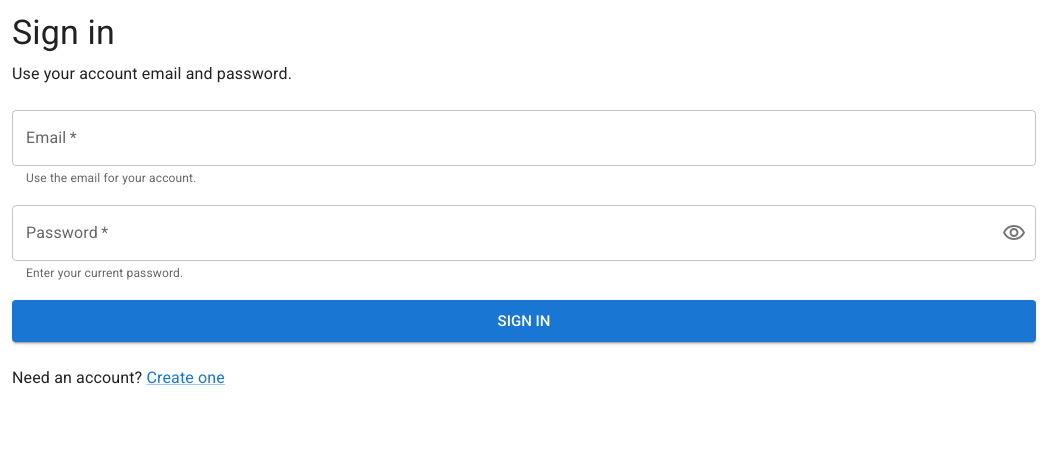
Test: AuthForm › keeps timeout and upstream failures distinct
The width and height of the screenshot is (1048, 474).
Type "person@example.com" into the field labelled "Email *". click: (524, 138)
box: left=12, top=110, right=1036, bottom=166
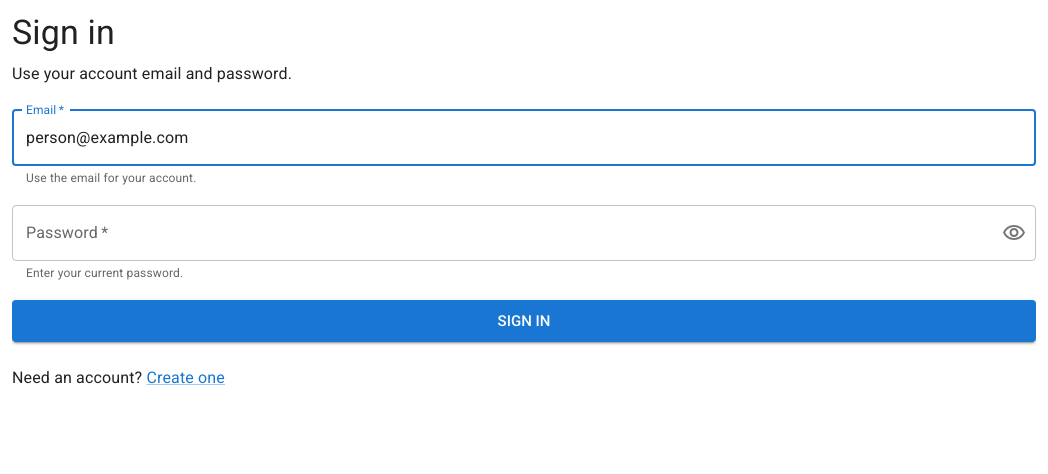
Type "legacy password" into the password field labelled "Password *". click: (499, 233)
box: left=12, top=205, right=986, bottom=261
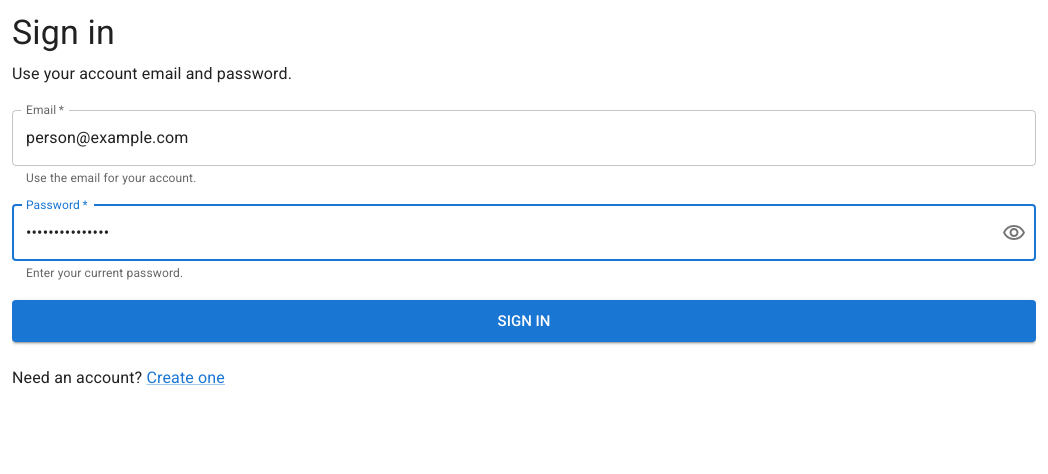
Click the button "Sign in". click: (524, 321)
box: left=12, top=300, right=1036, bottom=342
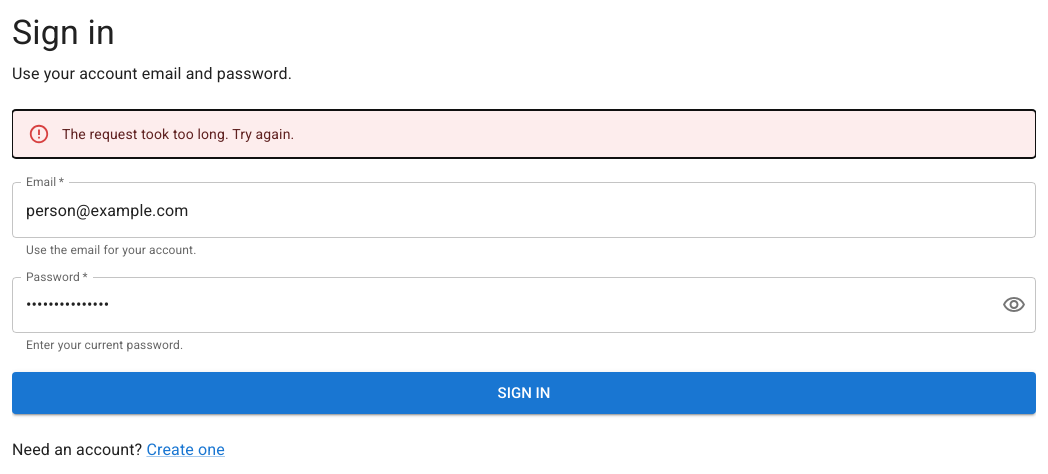
Check: the text "The request took too long. Try again." is shown, box left=62, top=126, right=294, bottom=142
Click the button "Sign in". click: (524, 393)
box: left=12, top=372, right=1036, bottom=414
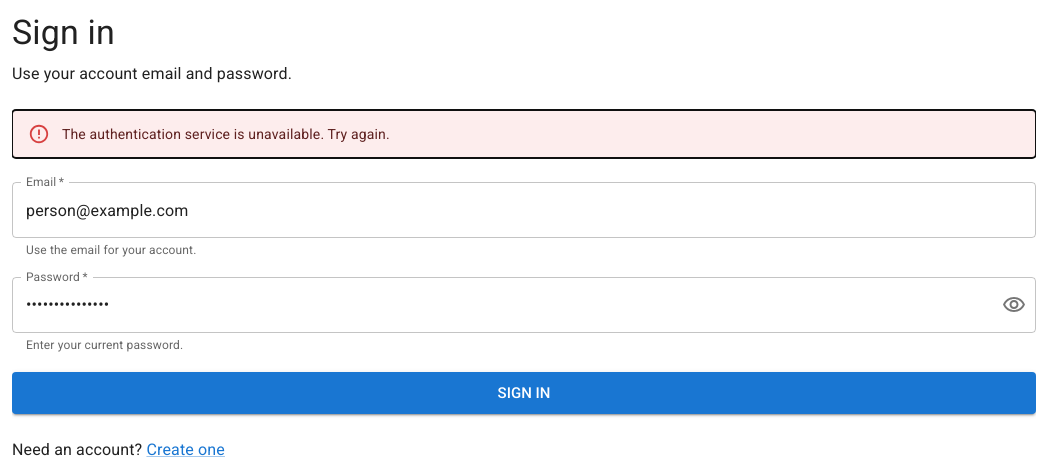
Check: the text "The authentication service is unavailable. Try again." is shown, box left=62, top=126, right=390, bottom=142
